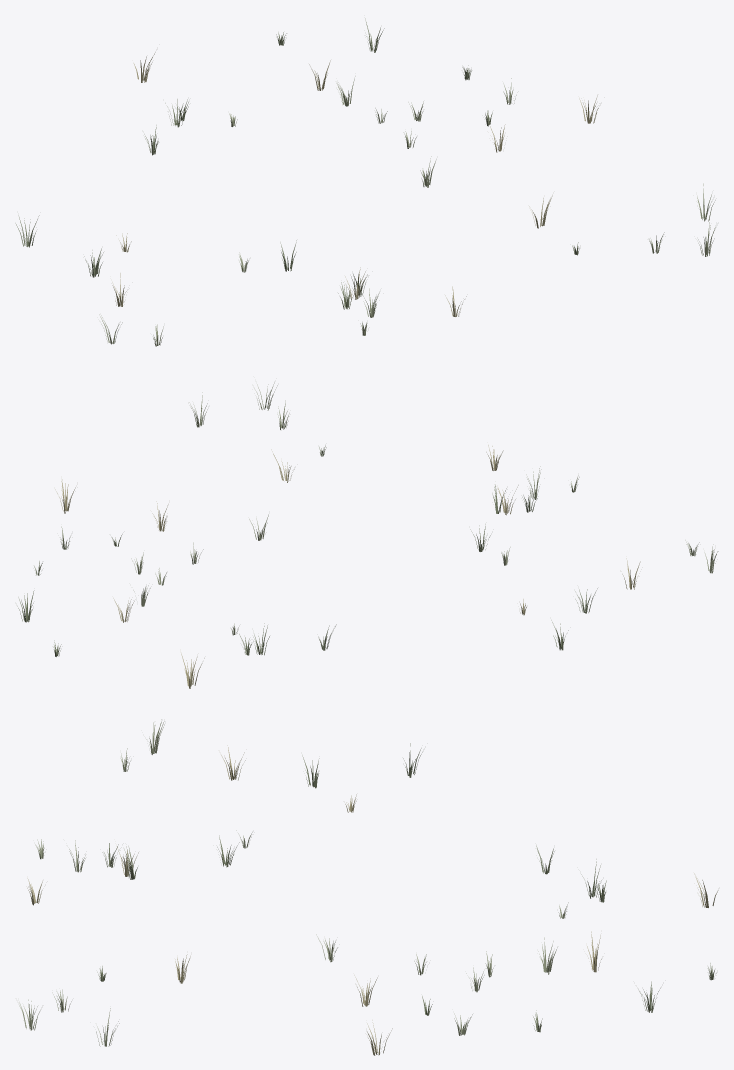
Rendered from AE_Grass_0_-2.fbx.
The picture shows the model from 3 angles, top to bottom: view 1: azimuth 30°, elevation 25°; view 2: azimuth 150°, elevation 25°; view 3: azimuth 270°, elevation 25°; orthographic projection. The views are drawn at different scales.
Parts seen in each view (by area): view 1: AE_Grass_0_-2_LOD0; view 2: AE_Grass_0_-2_LOD0; view 3: AE_Grass_0_-2_LOD0.
Boxes of the visible parts, box(x1,y1,x2,y2) form: AE_Grass_0_-2_LOD0: box(15, 18, 715, 346); AE_Grass_0_-2_LOD0: box(17, 382, 718, 688); AE_Grass_0_-2_LOD0: box(19, 719, 718, 1055).
Size of what is drawn, in the model's own units: 1840 by 108 by 1758.
